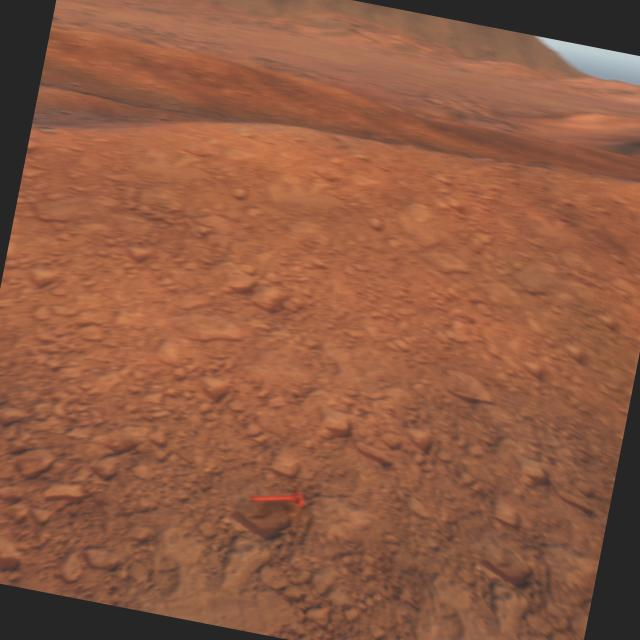newhammer: (250, 478, 306, 512)
